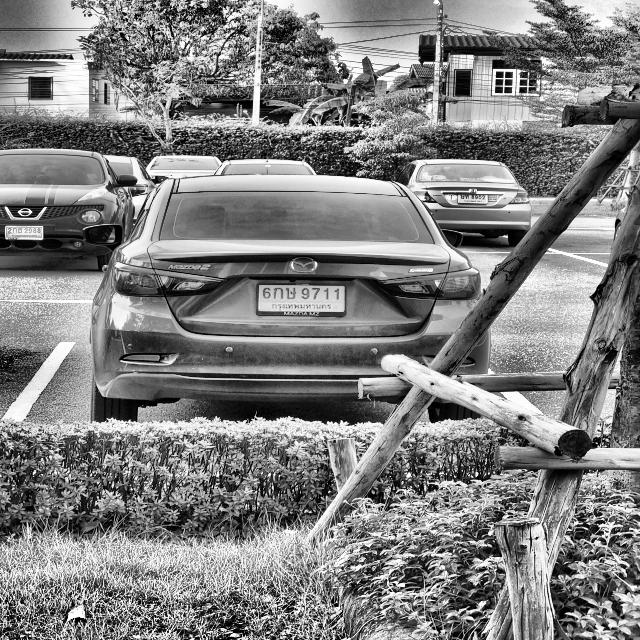license-plate: (256, 282, 346, 318), (6, 224, 47, 242), (455, 192, 490, 206)
